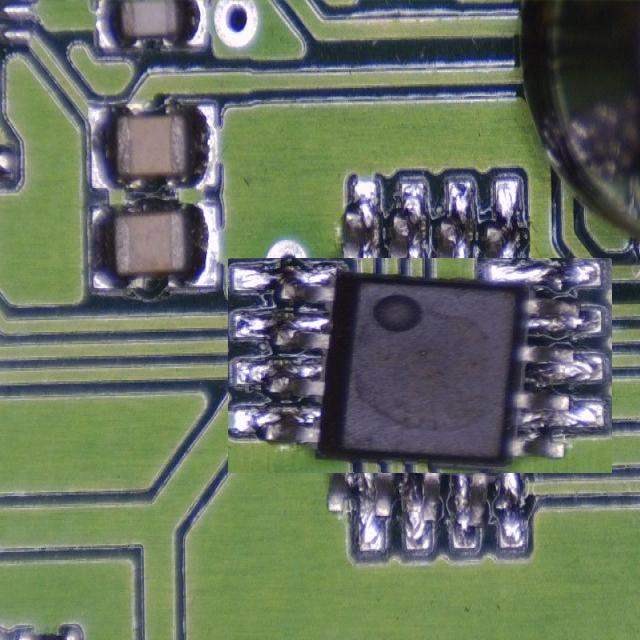Incorrect_installation: (228, 259, 611, 472)
